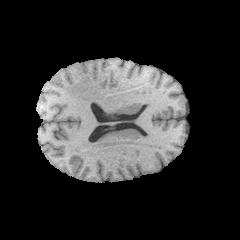glioma: (64, 67, 106, 112)
